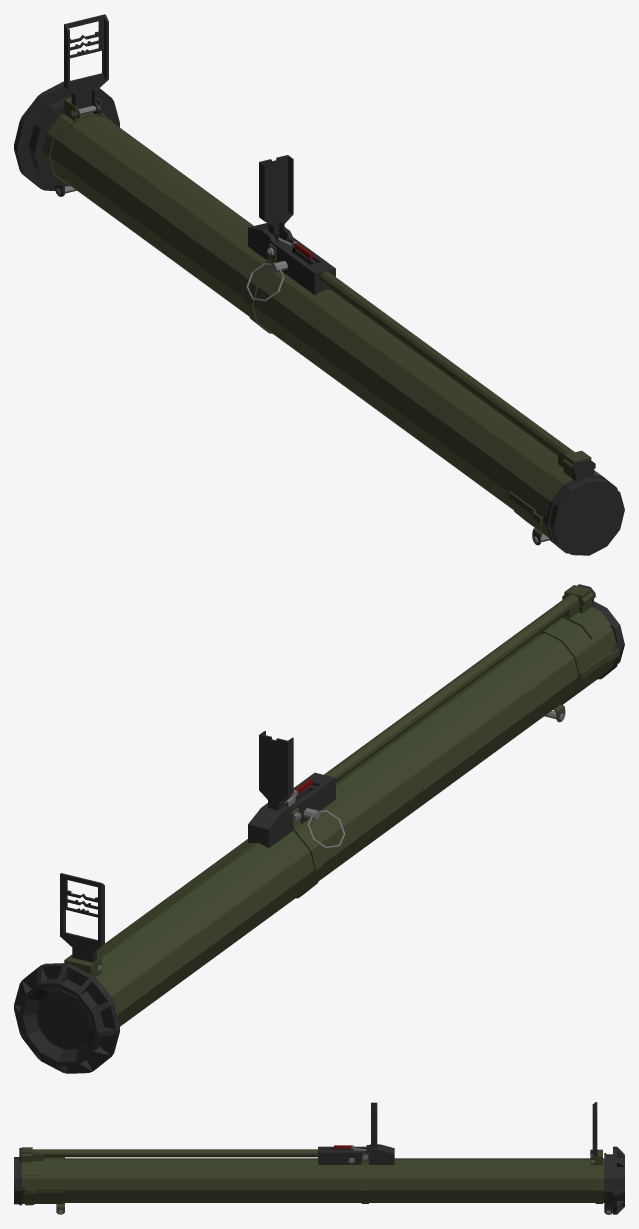
Rendered from rpg.gltf.
3 views of the same model, one above another, from view 1: azimuth 30°, elevation 25°; view 2: azimuth 150°, elevation 25°; view 3: azimuth 270°, elevation 25° (orthographic). The views are drawn at different scales.
Parts seen in each view (by area): view 1: Tube, Rear_Cover, Rear_Upper_Tube, Rear_Sight, Front_Sight, Rear_Sight_Housing, Front_Sight_Mount, Rear_Sight_Mount; view 2: Tube, Rear_Upper_Tube, Rear_Sight_Housing, Rear_Sight, Front_Sight, Rear_Sight_Mount, Rear_Cover; view 3: Tube, Rear_Upper_Tube, Rear_Sight_Housing, Front_Sight_Mount, Rear_Cover, Rear_Sight_Mount, Rear_Sight, Front_Sight, Side_Grip_Right.
Part boxes in pixels (x1,y1,x2,y2): Tube: [14, 80, 600, 538]; Rear_Cover: [542, 458, 624, 555]; Rear_Upper_Tube: [319, 271, 574, 467]; Rear_Sight: [259, 155, 293, 242]; Front_Sight: [64, 14, 108, 118]; Rear_Sight_Housing: [248, 223, 335, 294]; Front_Sight_Mount: [42, 98, 114, 184]; Rear_Sight_Mount: [245, 243, 276, 333]; Tube: [14, 585, 616, 1073]; Rear_Upper_Tube: [324, 594, 579, 781]; Rear_Sight_Housing: [248, 772, 335, 847]; Rear_Sight: [259, 731, 293, 810]; Front_Sight: [60, 873, 104, 962]; Rear_Sight_Mount: [291, 808, 322, 898]; Rear_Cover: [577, 584, 624, 679]; Tube: [21, 1146, 624, 1214]; Rear_Upper_Tube: [32, 1149, 317, 1160]; Rear_Sight_Housing: [318, 1144, 394, 1164]; Front_Sight_Mount: [590, 1149, 602, 1203]; Rear_Cover: [14, 1148, 26, 1205]; Rear_Sight_Mount: [361, 1153, 368, 1203]; Rear_Sight: [366, 1102, 377, 1150]; Front_Sight: [590, 1102, 597, 1156]; Side_Grip_Right: [25, 1188, 64, 1193].
Bounding box in the file's own units: 0.2459 × 0.4187 × 2.21.
2 materials, 2 textured.
